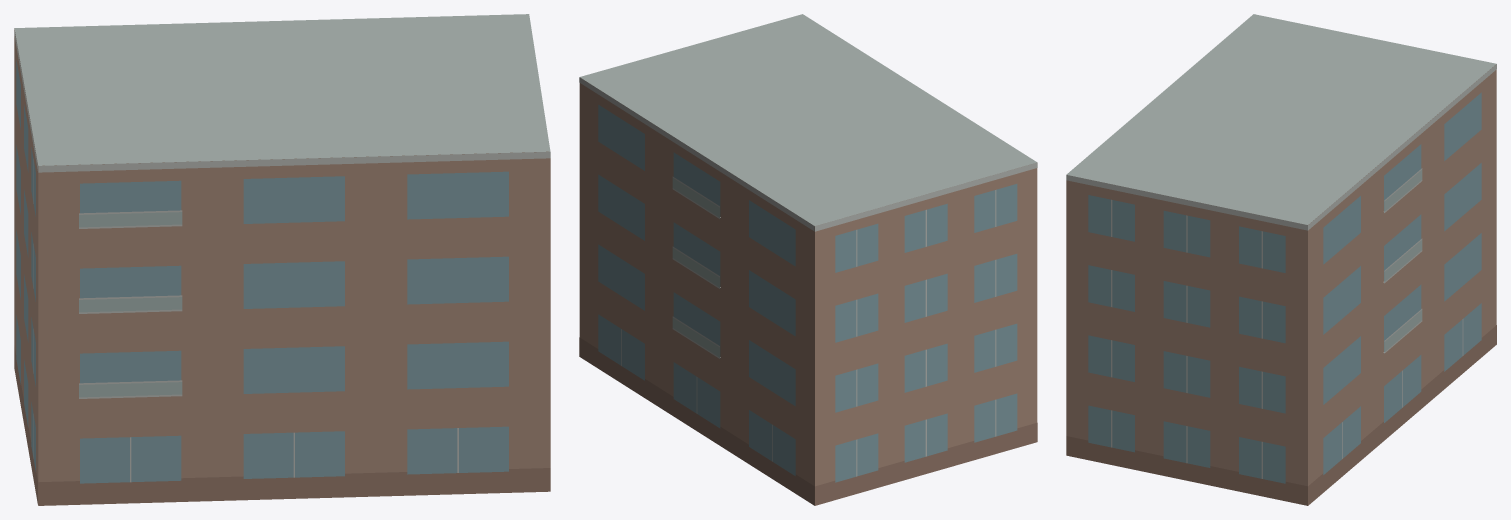
File: survey-upis-32731110.glb
3 renders of one model, left to right at view 1: azimuth 30°, elevation 25°; view 2: azimuth 150°, elevation 25°; view 3: azimuth 270°, elevation 25°, orthographic. The views are drawn at different scales.
Visible parts, largest first — view 1: survey-upis-32731110.tmp; view 2: survey-upis-32731110.tmp; view 3: survey-upis-32731110.tmp.
Part boxes in pixels (x1=…): survey-upis-32731110.tmp: x1=14, y1=14, x2=550, y2=505; survey-upis-32731110.tmp: x1=579, y1=14, x2=1037, y2=505; survey-upis-32731110.tmp: x1=1066, y1=14, x2=1496, y2=505.
Size of the model in its own units: 19.99 by 12.39 by 17.23.
